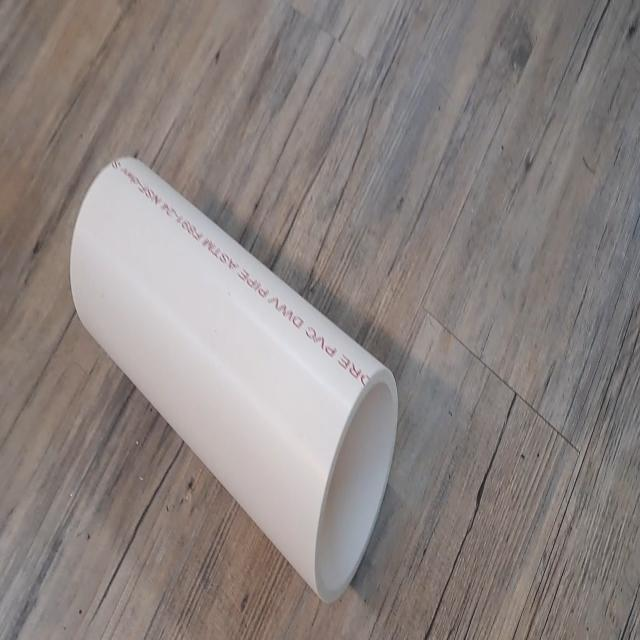CORAL: (59, 147, 403, 607)
